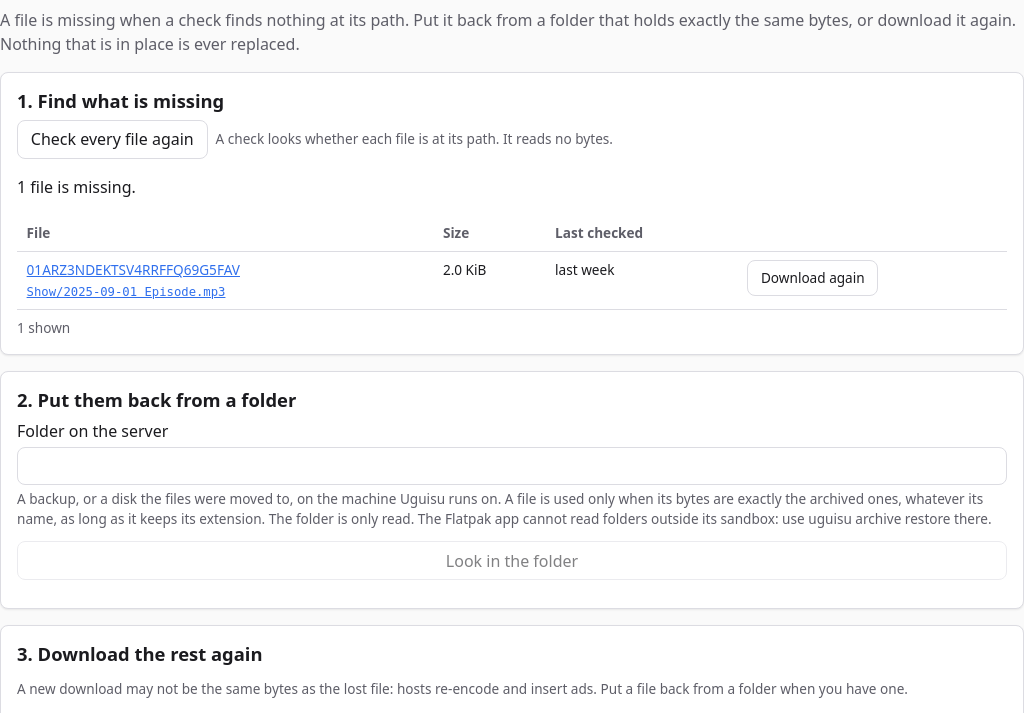
Test: archive repair view › downloads one file again
Click the button "Download again".
click(813, 278)  # box [747,260,878,296]
(page scrolled)
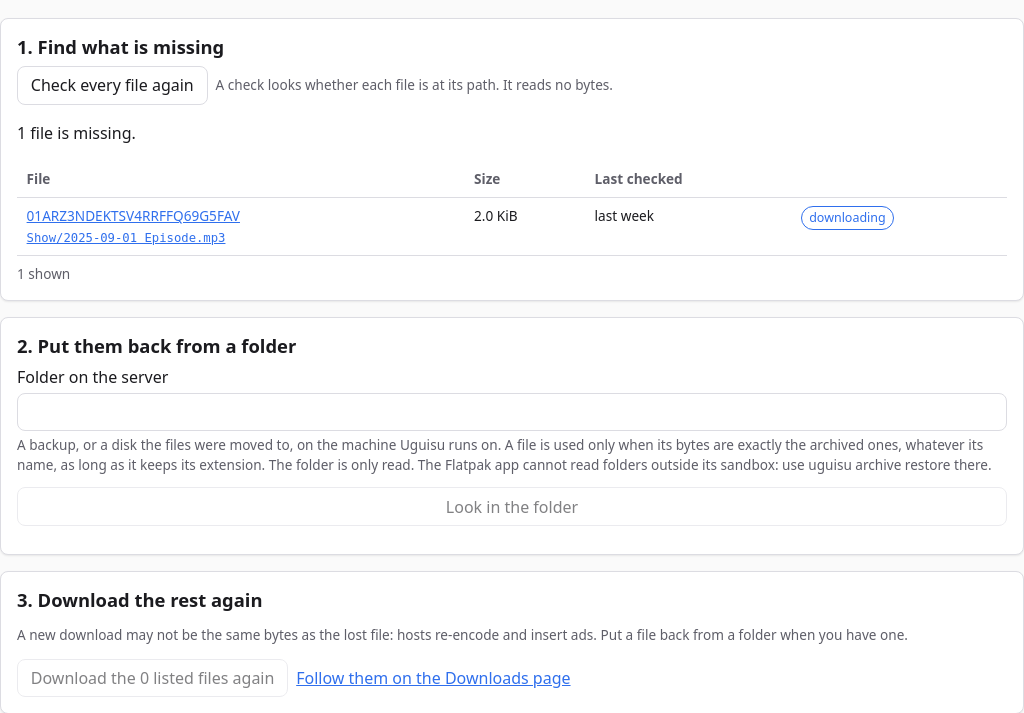
Expected: the link "Follow them on the Downloads page" is shown, [296,666,571,690]
Expected: the button "Download again" is gone
